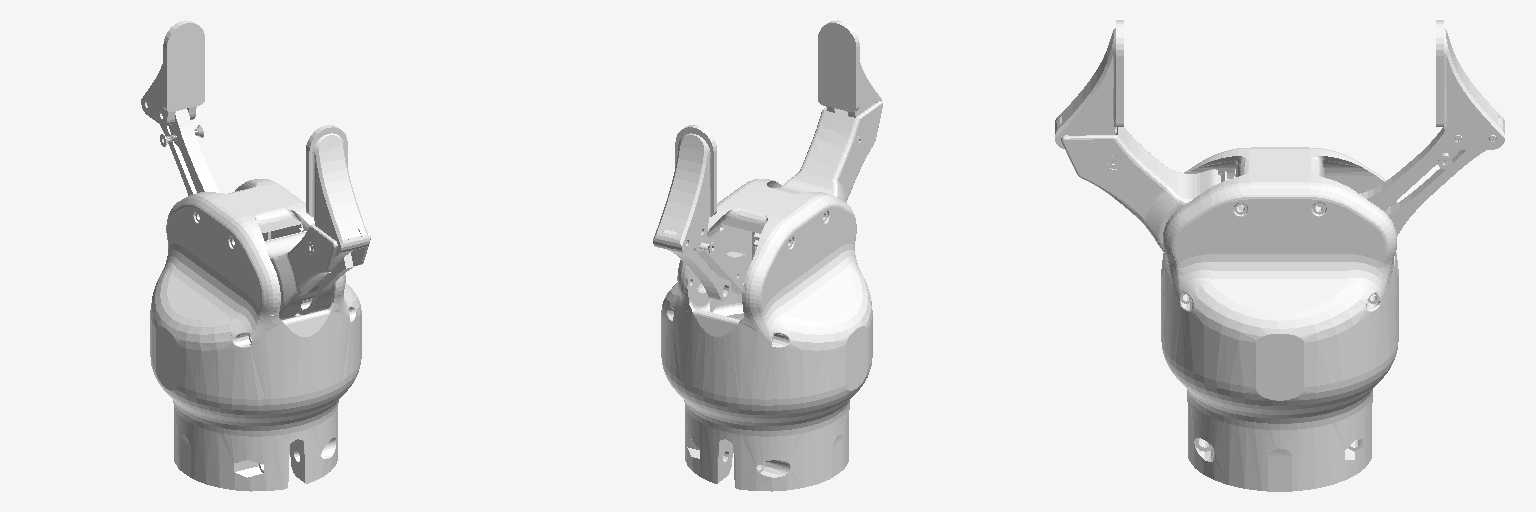
robot.urdf — blue_descriptions_right:
<?xml version="1.0" ?>
<!-- =================================================================================== -->
<!-- |    This document was autogenerated by xacro from blue_right_no_gripper.urdf.xacro | -->
<!-- |    EDITING THIS FILE BY HAND IS NOT RECOMMENDED                                 | -->
<!-- =================================================================================== -->
<robot name="blue_descriptions_right" xmlns:xacro="http://ros.org/wiki/xacro">
  <link name="right_base_link">
    <inertial>
      <origin rpy="0 0 0" xyz="0.0560024374186662 0.000189445541681321 0.0201835602327798"/>
      <mass value="0.284612172465311"/>
      <inertia ixx="0.000716950374478633" ixy="-4.58477843167981E-06" ixz="4.20772050305934E-06" iyy="0.00197711566495113" iyz="9.13561852910017E-07" izz="0.00239705630031167"/>
    </inertial>
    <visual>
      <origin rpy="0 0 0" xyz="0 0 0"/>
      <geometry>
        <mesh filename="package://blue_descriptions/meshes/arm_base_link.STL"/>
      </geometry>
      <material name="">
        <color rgba="0.792156862745098 0.819607843137255 0.933333333333333 1"/>
      </material>
    </visual>
    <collision>
      <origin rpy="0 0 0" xyz="0 0 0"/>
      <geometry>
        <mesh filename="package://blue_descriptions/meshes/arm_base_link.STL"/>
      </geometry>
    </collision>
  </link>
  <joint name="right_base_roll_joint" type="revolute">
    <origin rpy="3.1416 -2.2011E-29 0.0" xyz="0 0 0.087371"/>
    <parent link="right_base_link"/>
    <child link="right_shoulder_roll_link"/>
    <axis xyz="0 0 1"/>
    <limit effort="80" lower="-3.3999" upper="2.3412" velocity="50"/>
  </joint>
  <link name="right_shoulder_roll_link">
    <inertial>
      <origin rpy="0 0 0" xyz="0.00526385736219506 2.70691865020822E-05 -0.0641638075944594"/>
      <mass value="1.91396434923"/>
      <inertia ixx="0.0057866591250737" ixy="3.71515699629511E-07" ixz="-6.32890111626103E-05" iyy="0.00530223654324281" iyz="8.9999884666805E-07" izz="0.00342399181200673"/>
    </inertial>
    <visual>
      <origin rpy="0 0 0" xyz="0 0 0"/>
      <geometry>
        <mesh filename="package://blue_descriptions/meshes/roll_link.STL"/>
      </geometry>
      <material name="">
        <color rgba="1 1 1 1"/>
      </material>
    </visual>
    <collision>
      <origin rpy="0 0 0" xyz="0 0 0"/>
      <geometry>
        <mesh filename="package://blue_descriptions/meshes/roll_link.STL"/>
      </geometry>
    </collision>
  </link>
  <joint name="right_shoulder_lift_joint" type="revolute">
    <origin rpy="-1.5708 4.4409E-16 3.1416" xyz="-0.01143 0 -0.18056"/>
    <parent link="right_shoulder_roll_link"/>
    <child link="right_shoulder_lift_link"/>
    <axis xyz="0 0 1"/>
    <limit effort="80" lower="-2.2944" upper="0" velocity="50"/>
  </joint>
  <link name="right_shoulder_lift_link">
    <inertial>
      <origin rpy="0 0 0" xyz="-5.0083559080677E-06 0.000232928456050885 -1.77451392545103E-05"/>
      <mass value="0.448307108622636"/>
      <inertia ixx="0.000804272985961788" ixy="4.84548777859872E-08" ixz="2.09160815704306E-06" iyy="0.000818260636171894" iyz="-1.44954778549764E-08" izz="0.000550840705045094"/>
    </inertial>
    <visual>
      <origin rpy="0 0 0" xyz="0 0 0"/>
      <geometry>
        <mesh filename="package://blue_descriptions/meshes/lift_link.STL"/>
      </geometry>
      <material name="">
        <color rgba="0.116747 0.862745 1.0 1"/>
      </material>
    </visual>
    <collision>
      <origin rpy="0 0 0" xyz="0 0 0"/>
      <geometry>
        <mesh filename="package://blue_descriptions/meshes/lift_link.STL"/>
      </geometry>
    </collision>
  </link>
  <joint name="right_shoulder_roll_joint" type="revolute">
    <origin rpy="-1.5708 -1.5673 -3.1416" xyz="0 0.070147 -6.25E-05"/>
    <parent link="right_shoulder_lift_link"/>
    <child link="right_elbow_roll_link"/>
    <axis xyz="0 0 1"/>
    <limit effort="80" lower="-2.6761" upper="2.6761" velocity="50"/>
  </joint>
  <link name="right_elbow_roll_link">
    <inertial>
      <origin rpy="0 0 0" xyz="0.00526385736219506 2.70691865020822E-05 -0.0641638075944594"/>
      <mass value="1.91396434923"/>
      <inertia ixx="0.0057866591250737" ixy="3.71515699629511E-07" ixz="-6.32890111626103E-05" iyy="0.00530223654324281" iyz="8.9999884666805E-07" izz="0.00342399181200673"/>
    </inertial>
    <visual>
      <origin rpy="0 0 0" xyz="0 0 0"/>
      <geometry>
        <mesh filename="package://blue_descriptions/meshes/roll_link.STL"/>
      </geometry>
      <material name="">
        <color rgba="1 1 1 1"/>
      </material>
    </visual>
    <collision>
      <origin rpy="0 0 0" xyz="0 0 0"/>
      <geometry>
        <mesh filename="package://blue_descriptions/meshes/roll_link.STL"/>
      </geometry>
    </collision>
  </link>
  <joint name="right_elbow_lift_joint" type="revolute">
    <origin rpy="-1.5708 4.4409E-16 3.1416" xyz="-0.01143 0 -0.18056"/>
    <parent link="right_elbow_roll_link"/>
    <child link="right_elbow_lift_link"/>
    <axis xyz="0 0 1"/>
    <limit effort="80" lower="-2.2944" upper="0" velocity="50"/>
  </joint>
  <link name="right_elbow_lift_link">
    <inertial>
      <origin rpy="0 0 0" xyz="-5.0083559080677E-06 0.000232928456050885 -1.77451392545103E-05"/>
      <mass value="0.448307108622636"/>
      <inertia ixx="0.000804272985961788" ixy="4.84548777859872E-08" ixz="2.09160815704306E-06" iyy="0.000818260636171894" iyz="-1.44954778549764E-08" izz="0.000550840705045094"/>
    </inertial>
    <visual>
      <origin rpy="0 0 0" xyz="0 0 0"/>
      <geometry>
        <mesh filename="package://blue_descriptions/meshes/lift_link.STL"/>
      </geometry>
      <material name="">
        <color rgba="0.116747 0.862745 1.0 1"/>
      </material>
    </visual>
    <collision>
      <origin rpy="0 0 0" xyz="0 0 0"/>
      <geometry>
        <mesh filename="package://blue_descriptions/meshes/lift_link.STL"/>
      </geometry>
    </collision>
  </link>
  <joint name="right_elbow_roll_joint" type="revolute">
    <origin rpy="-1.5708 1.5673 -3.1416" xyz="0 0.070147 -6.25E-05"/>
    <parent link="right_elbow_lift_link"/>
    <child link="right_wrist_roll_link"/>
    <axis xyz="0 0 1"/>
    <limit effort="80" lower="-2.6761" upper="2.6761" velocity="50"/>
  </joint>
  <link name="right_wrist_roll_link">
    <inertial>
      <origin rpy="0 0 0" xyz="0.00526385736219506 2.70691865020822E-05 -0.0641638075944594"/>
      <mass value="1.41368434923"/>
      <inertia ixx="0.0057866591250737" ixy="3.71515699629511E-07" ixz="-6.32890111626103E-05" iyy="0.00530223654324281" iyz="8.9999884666805E-07" izz="0.00342399181200673"/>
    </inertial>
    <visual>
      <origin rpy="0 0 0" xyz="0 0 0"/>
      <geometry>
        <mesh filename="package://blue_descriptions/meshes/roll_link.STL"/>
      </geometry>
      <material name="">
        <color rgba="1 1 1 1"/>
      </material>
    </visual>
    <collision>
      <origin rpy="0 0 0" xyz="0 0 0"/>
      <geometry>
        <mesh filename="package://blue_descriptions/meshes/roll_link.STL"/>
      </geometry>
    </collision>
  </link>
  <joint name="right_wrist_lift_joint" type="revolute">
    <origin rpy="-1.5708 4.4409E-16 3.1416" xyz="-0.01143 0 -0.18056"/>
    <parent link="right_wrist_roll_link"/>
    <child link="right_wrist_lift_link"/>
    <axis xyz="0 0 1"/>
    <limit effort="80" lower="-2.2944" upper="0" velocity="50"/>
  </joint>
  <link name="right_wrist_lift_link">
    <inertial>
      <origin rpy="0 0 0" xyz="-5.0083559080677E-06 0.000232928456050885 -1.77451392545103E-05"/>
      <mass value="0.448307108622636"/>
      <inertia ixx="0.000804272985961788" ixy="4.84548777859872E-08" ixz="2.09160815704306E-06" iyy="0.000818260636171894" iyz="-1.44954778549764E-08" izz="0.000550840705045094"/>
    </inertial>
    <visual>
      <origin rpy="0 0 0" xyz="0 0 0"/>
      <geometry>
        <mesh filename="package://blue_descriptions/meshes/lift_link.STL"/>
      </geometry>
      <material name="">
        <color rgba="0.116747 0.862745 1.0 1"/>
      </material>
    </visual>
    <collision>
      <origin rpy="0 0 0" xyz="0 0 0"/>
      <geometry>
        <mesh filename="package://blue_descriptions/meshes/lift_link.STL"/>
      </geometry>
    </collision>
  </link>
  <joint name="right_wrist_roll_joint" type="revolute">
    <origin rpy="-1.5708 0.0 -3.1416" xyz="0 0.070147 -6.25E-05"/>
    <parent link="right_wrist_lift_link"/>
    <child link="right_end_roll_link"/>
    <axis xyz="0 0 1"/>
    <limit effort="80" lower="-2.6761" upper="2.6761" velocity="50"/>
  </joint>
  <link name="right_end_roll_link">
    <inertial>
      <origin rpy="0 0 0" xyz="0.00526385736219506 2.70691865020822E-05 -0.0641638075944594"/>
      <mass value="0.657109755986862"/>
      <inertia ixx="0.0057866591250737" ixy="3.71515699629511E-07" ixz="-6.32890111626103E-05" iyy="0.00530223654324281" iyz="8.9999884666805E-07" izz="0.00342399181200673"/>
    </inertial>
    <visual>
      <origin rpy="0 0 0" xyz="0 0 0"/>
      <geometry>
        <mesh filename="package://blue_descriptions/meshes/wrist_roll_link_open.STL"/>
      </geometry>
      <material name="">
        <color rgba="1 1 1 1"/>
      </material>
    </visual>
    <collision>
      <origin rpy="0 0 0" xyz="0 0 0"/>
      <geometry>
        <mesh filename="package://blue_descriptions/meshes/wrist_roll_link_open.STL"/>
      </geometry>
    </collision>
  </link>
</robot>

--- Render facts (derived) ---
The picture shows the robot from 3 angles, left to right: view 1: azimuth 30°, elevation 25°; view 2: azimuth 150°, elevation 25°; view 3: azimuth 270°, elevation 25°; orthographic projection.
Robot: blue_descriptions_right — 8 links, 7 joints (7 revolute); root link right_base_link; default pose: all joints at 0.
Visible links, largest first — view 1: right_end_roll_link; view 2: right_end_roll_link; view 3: right_end_roll_link.
Boxes of the visible links, left/top/right/bottom form: right_end_roll_link: left=141, top=20, right=370, bottom=491; right_end_roll_link: left=653, top=20, right=882, bottom=491; right_end_roll_link: left=1055, top=20, right=1504, bottom=491.
Size in the robot's own frame: 0.0949 by 0.1836 by 0.1933 metres.
Meshes: 4 distinct files referenced, 1 mesh visuals loaded (1 binary STL); not drawn: 7 (reference not matched to a file when rendering).